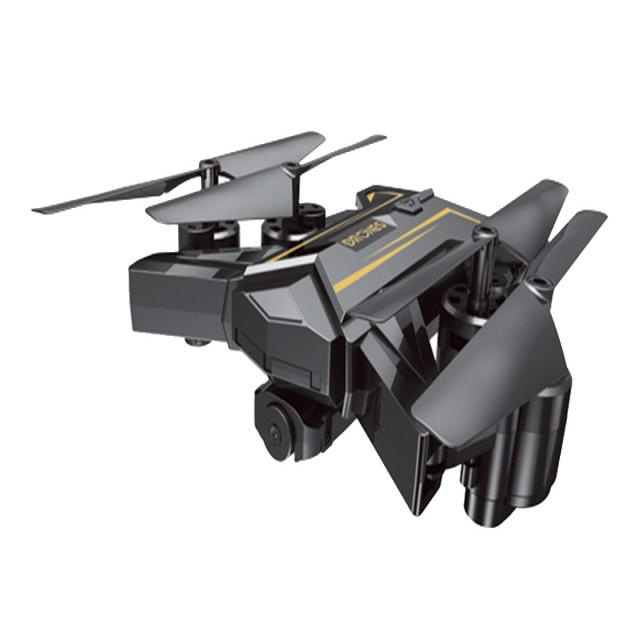drone: (29, 126, 608, 530)
